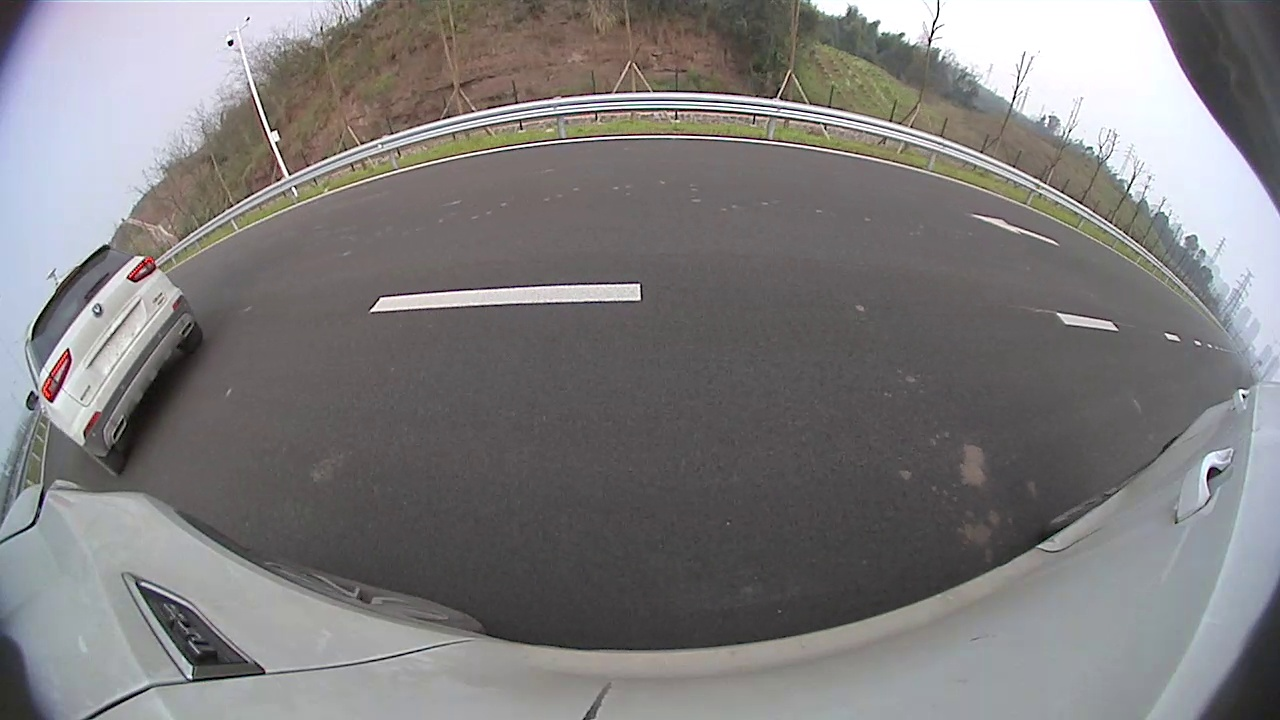car: (23, 244, 204, 477)
